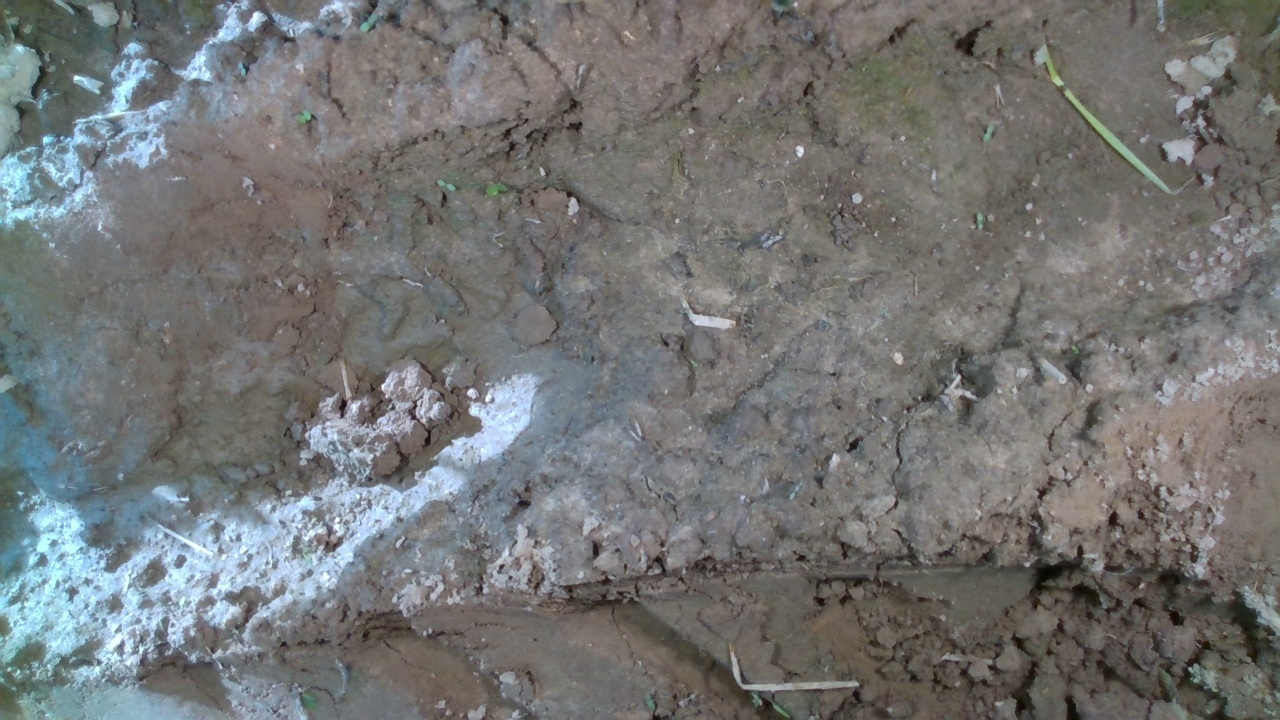weed: (433, 176, 455, 192), (980, 124, 995, 143), (974, 211, 985, 232), (236, 59, 248, 77)
